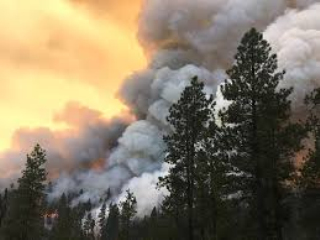smoke: (127, 2, 222, 170), (269, 2, 318, 116), (68, 171, 169, 219)
